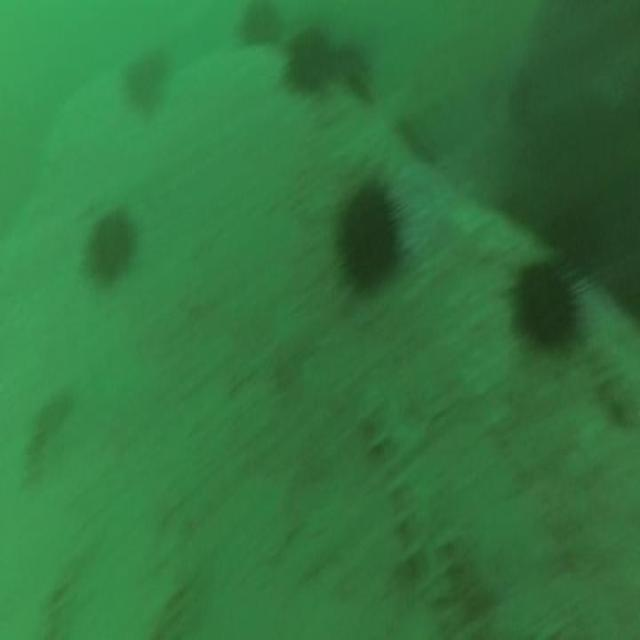echinus: (340, 186, 396, 286), (516, 261, 574, 343), (86, 215, 132, 286), (287, 30, 330, 98), (548, 214, 594, 274), (242, 0, 280, 51), (123, 58, 158, 110)
holothurian: (363, 398, 449, 602), (582, 329, 640, 431)
